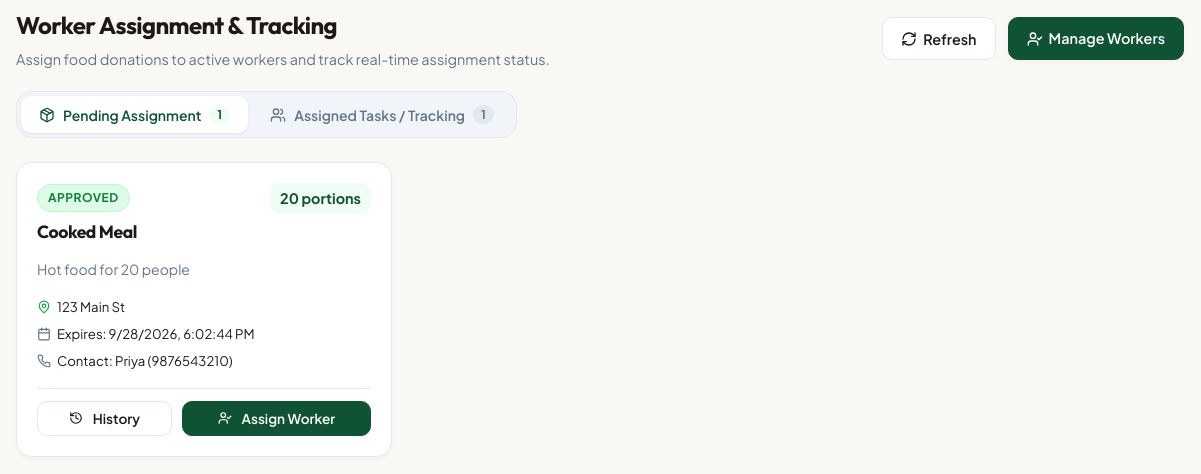
Test: Frontend Module 04 — Unit & Component Tests › AdminAssignmentQueuePage Worker Selector › switches between Pending Assignment and Assigned Tasks tabs
Expected: the heading "Cooked Meal" is shown, x1=37 y1=218 x2=137 y2=246
// Click Assigned Tasks / Tracking tab
What coordinates should you click on to do the following:
click the tab "Assigned Tasks / Tracking 1"
I would click on:
 (382, 115)
Its box is x1=252 y1=96 x2=512 y2=133.
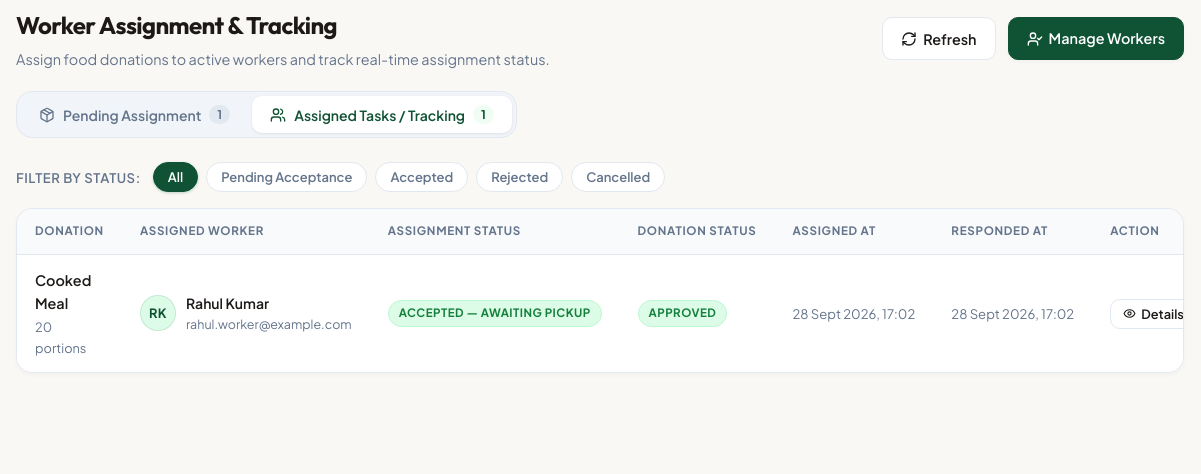
Expected: the text "Rahul Kumar" is shown, x1=186 y1=294 x2=269 y2=312
Expected: the text "Accepted — Awaiting Pickup" is shown, x1=388 y1=300 x2=602 y2=327
